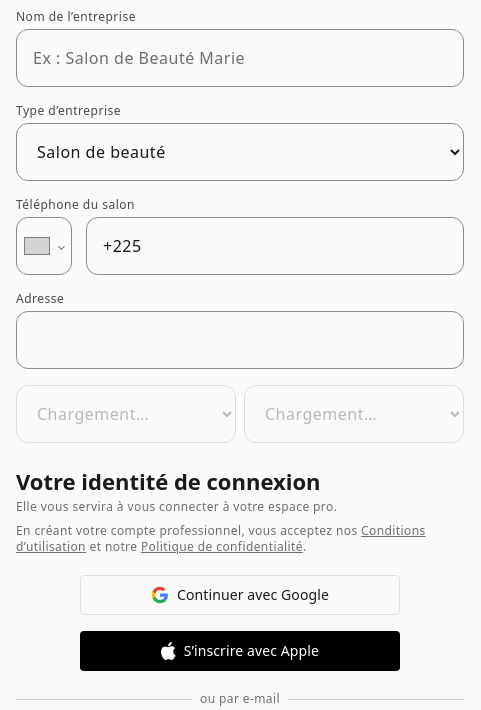
Test case: ProRegisterClient — « Téléphone du salon » › empty: asks for a number
Type "Salon Awa" into the field labelled "Nom de l’entreprise". click: (240, 58)
box: [16,29,464,87]
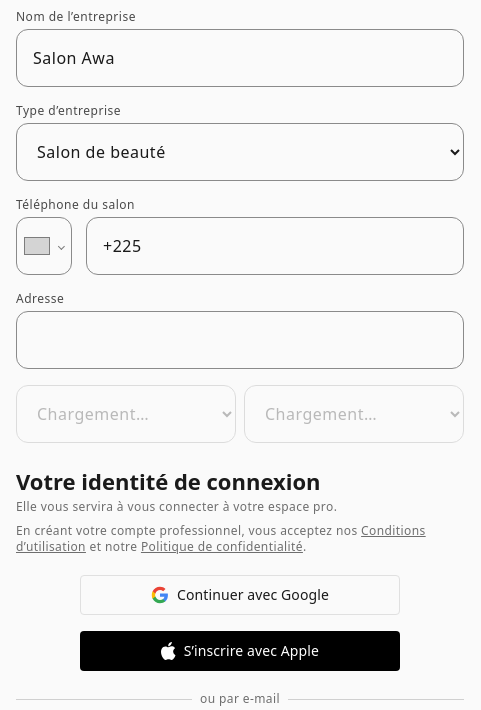
Type "Rue des Jardins, Cocody" into the field labelled "Adresse". click: (240, 340)
box: [16,311,464,369]
(page scrolled)
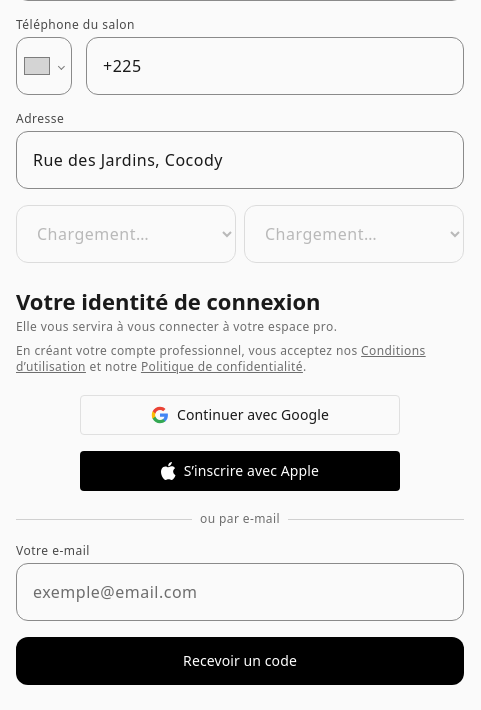
Type "awa@salon.ci" into the field labelled "Votre e-mail". click: (240, 592)
box: [16,563,464,621]
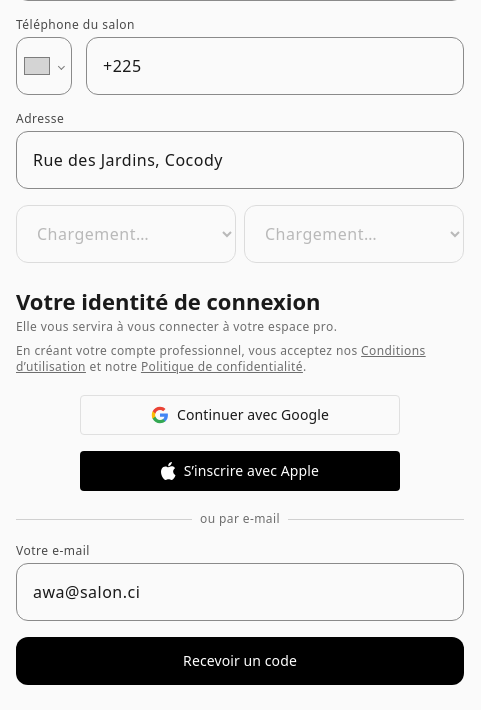
Click the button "Recevoir un code". click: click(240, 661)
box: [16,637,464,685]
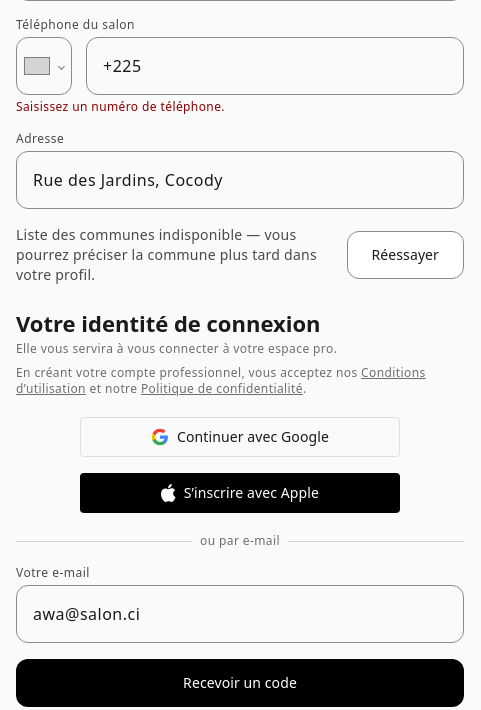
Check: the message reads "Saisissez un numéro de téléphone.", box [16,98,225,115]
